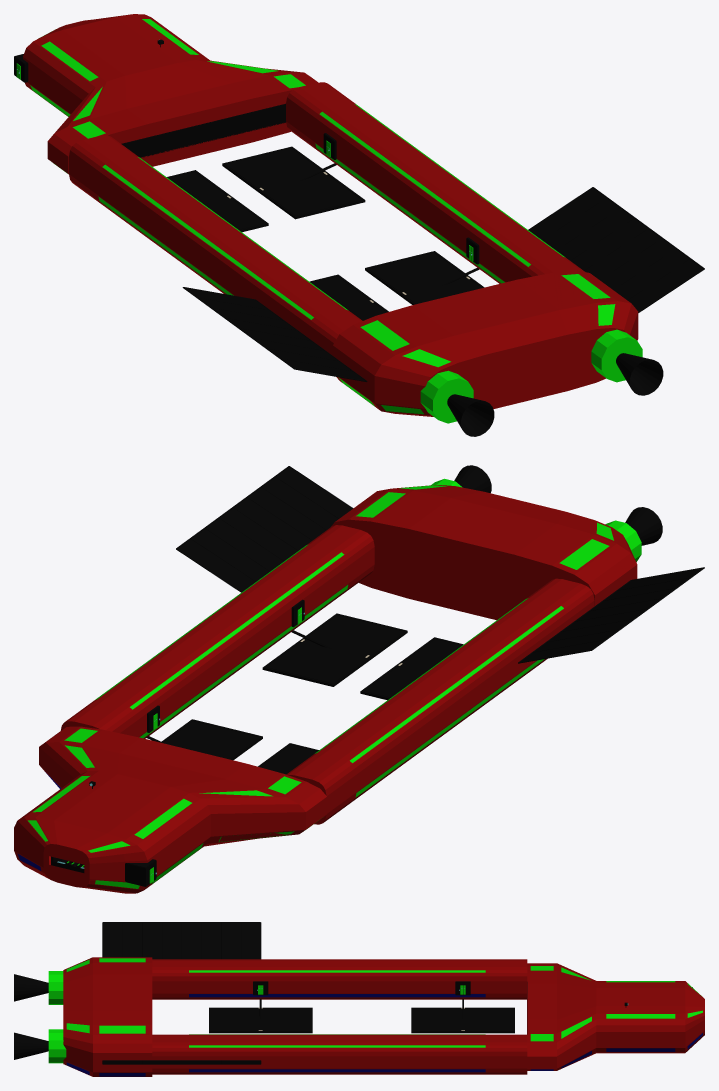
The model's file is crosscurrent.glb.
3 renders of one model, top to bottom at view 1: azimuth 30°, elevation 25°; view 2: azimuth 150°, elevation 25°; view 3: azimuth 270°, elevation 25°, orthographic. The views are drawn at different scales.
Parts seen in each view (by area): view 1: expedition_crosscurrent:aft_engine_module, expedition_crosscurrent:forward_pressure_cluster, expedition_crosscurrent:port-spine, expedition_crosscurrent:stbd-spine, expedition_crosscurrent:radiator_2, expedition_crosscurrent:cradle_stbd-spine cradle 1, expedition_crosscurrent:radiator_1, expedition_crosscurrent:cradle_stbd-spine cradle 2, expedition_crosscurrent:room_forecross, expedition_crosscurrent:service_panels_3, expedition_crosscurrent:service_panels_1, expedition_crosscurrent:cradle_port-spine cradle 1 (+7 smaller); view 2: expedition_crosscurrent:forward_pressure_cluster, expedition_crosscurrent:aft_engine_module, expedition_crosscurrent:port-spine, expedition_crosscurrent:stbd-spine, expedition_crosscurrent:radiator_2, expedition_crosscurrent:cradle_stbd-spine cradle 2, expedition_crosscurrent:radiator_1, expedition_crosscurrent:service_panels_0, expedition_crosscurrent:service_panels_3, expedition_crosscurrent:service_panels_2, expedition_crosscurrent:cradle_stbd-spine cradle 1, expedition_crosscurrent:cradle_port-spine cradle 2 (+4 smaller); view 3: expedition_crosscurrent:stbd-spine, expedition_crosscurrent:port-spine, expedition_crosscurrent:forward_pressure_cluster, expedition_crosscurrent:aft_engine_module, expedition_crosscurrent:radiator_1, expedition_crosscurrent:cradle_port-spine cradle 1, expedition_crosscurrent:cradle_port-spine cradle 2, expedition_crosscurrent:service_panels_3, expedition_crosscurrent:service_panels_2, expedition_crosscurrent:service_panels_0, expedition_crosscurrent:service_panels_1, expedition_crosscurrent:radiator_2 (+4 smaller).
Boxes of the visible parts, x1=… form: expedition_crosscurrent:aft_engine_module: x1=333, y1=270, x2=638, y2=416; expedition_crosscurrent:forward_pressure_cluster: x1=23, y1=14, x2=317, y2=174; expedition_crosscurrent:port-spine: x1=69, y1=135, x2=362, y2=355; expedition_crosscurrent:stbd-spine: x1=286, y1=82, x2=584, y2=283; expedition_crosscurrent:radiator_2: x1=528, y1=187, x2=704, y2=312; expedition_crosscurrent:cradle_stbd-spine cradle 1: x1=222, y1=146, x2=365, y2=219; expedition_crosscurrent:radiator_1: x1=182, y1=287, x2=367, y2=381; expedition_crosscurrent:cradle_stbd-spine cradle 2: x1=365, y1=251, x2=484, y2=304; expedition_crosscurrent:room_forecross: x1=122, y1=104, x2=286, y2=157; expedition_crosscurrent:service_panels_3: x1=315, y1=104, x2=565, y2=283; expedition_crosscurrent:service_panels_1: x1=338, y1=274, x2=615, y2=414; expedition_crosscurrent:cradle_port-spine cradle 1: x1=167, y1=170, x2=268, y2=232; expedition_crosscurrent:forward_pressure_cluster: x1=14, y1=726, x2=326, y2=893; expedition_crosscurrent:aft_engine_module: x1=330, y1=485, x2=637, y2=620; expedition_crosscurrent:port-spine: x1=286, y1=578, x2=594, y2=824; expedition_crosscurrent:stbd-spine: x1=60, y1=525, x2=374, y2=738; expedition_crosscurrent:radiator_2: x1=176, y1=466, x2=353, y2=592; expedition_crosscurrent:cradle_stbd-spine cradle 2: x1=262, y1=613, x2=407, y2=686; expedition_crosscurrent:radiator_1: x1=518, y1=567, x2=704, y2=663; expedition_crosscurrent:service_panels_0: x1=17, y1=728, x2=318, y2=888; expedition_crosscurrent:service_panels_3: x1=95, y1=544, x2=348, y2=738; expedition_crosscurrent:service_panels_2: x1=315, y1=598, x2=563, y2=797; expedition_crosscurrent:cradle_stbd-spine cradle 1: x1=161, y1=719, x2=262, y2=760; expedition_crosscurrent:cradle_port-spine cradle 2: x1=360, y1=637, x2=463, y2=700; expedition_crosscurrent:stbd-spine: x1=152, y1=1034, x2=527, y2=1074; expedition_crosscurrent:port-spine: x1=152, y1=959, x2=527, y2=999; expedition_crosscurrent:forward_pressure_cluster: x1=527, y1=963, x2=704, y2=1070; expedition_crosscurrent:aft_engine_module: x1=63, y1=957, x2=152, y2=1076; expedition_crosscurrent:radiator_1: x1=102, y1=922, x2=261, y2=959; expedition_crosscurrent:cradle_port-spine cradle 1: x1=411, y1=1007, x2=514, y2=1033; expedition_crosscurrent:cradle_port-spine cradle 2: x1=209, y1=1007, x2=312, y2=1033; expedition_crosscurrent:service_panels_3: x1=189, y1=1034, x2=485, y2=1072; expedition_crosscurrent:service_panels_2: x1=189, y1=970, x2=485, y2=997; expedition_crosscurrent:service_panels_0: x1=530, y1=966, x2=702, y2=1070; expedition_crosscurrent:service_panels_1: x1=66, y1=958, x2=145, y2=1076; expedition_crosscurrent:radiator_2: x1=102, y1=1060, x2=261, y2=1064.
Bounding box in the file's own units: 68.17 × 10.96 × 140.
